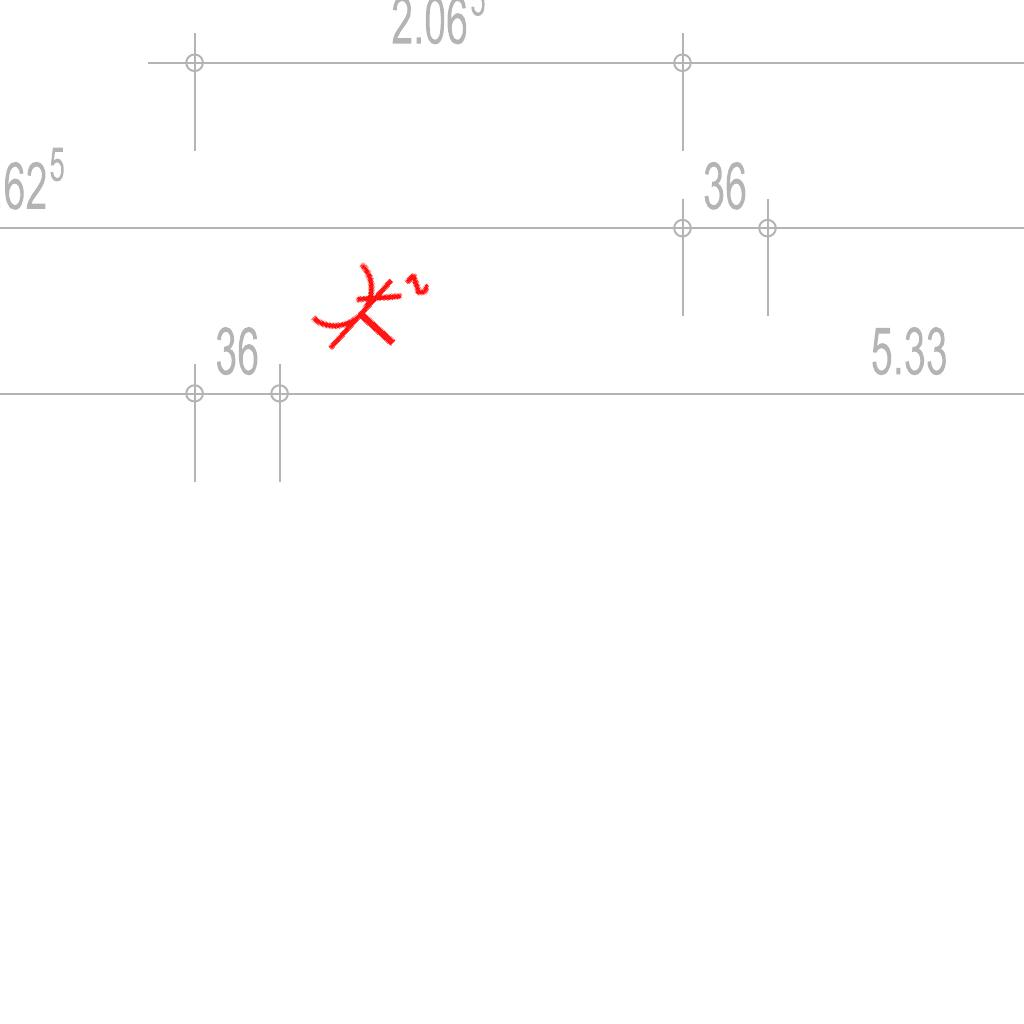Schukosteckdose_mehrfach: (298, 236, 445, 386)
